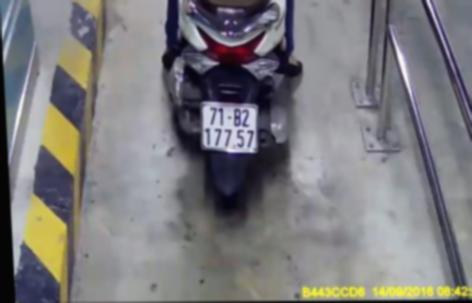License_Plate: (192, 97, 264, 160)
